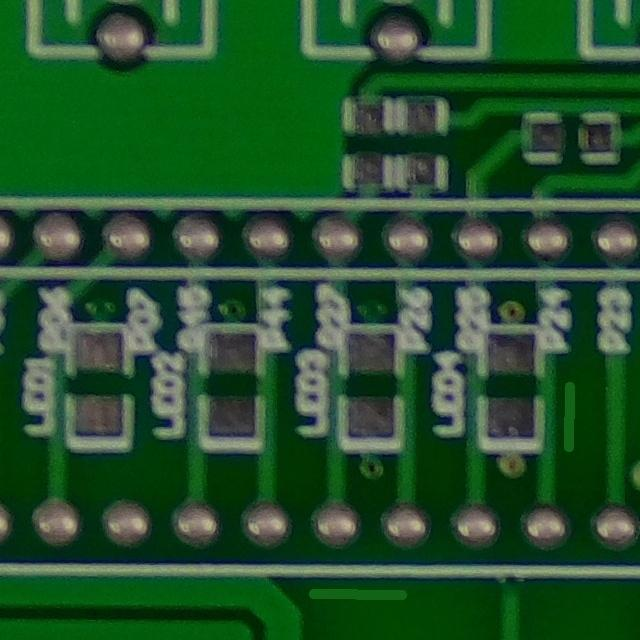spurious_copper: (298, 565, 424, 627), (545, 370, 599, 470)
